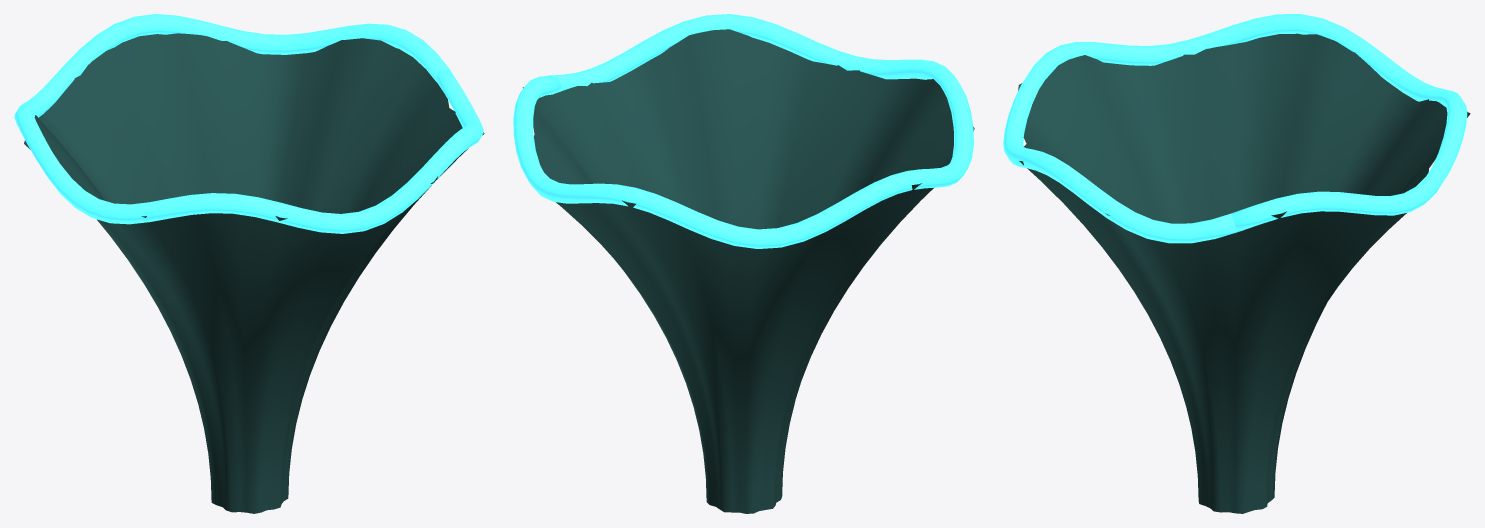
File: SM_TrumpetCoral.fbx
3 renders of one model, left to right at view 1: azimuth 30°, elevation 25°; view 2: azimuth 150°, elevation 25°; view 3: azimuth 270°, elevation 25°, orthographic.
Visible parts, largest first — view 1: SM_TrumpetCoral.001; view 2: SM_TrumpetCoral.001; view 3: SM_TrumpetCoral.001.
Boxes of the visible parts, box(x1,y1,x2,y2) form: SM_TrumpetCoral.001: box(14, 14, 484, 513); SM_TrumpetCoral.001: box(513, 14, 974, 513); SM_TrumpetCoral.001: box(1003, 14, 1470, 513).
Bounding box in the file's own units: 125 × 126 × 117.
